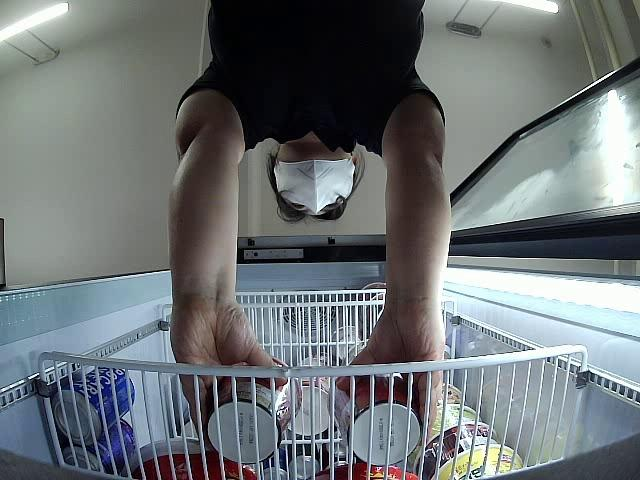00_hand: (169, 302, 288, 433), (337, 312, 446, 447)
02_shinRamen_S: (204, 353, 301, 461), (325, 373, 421, 467)
